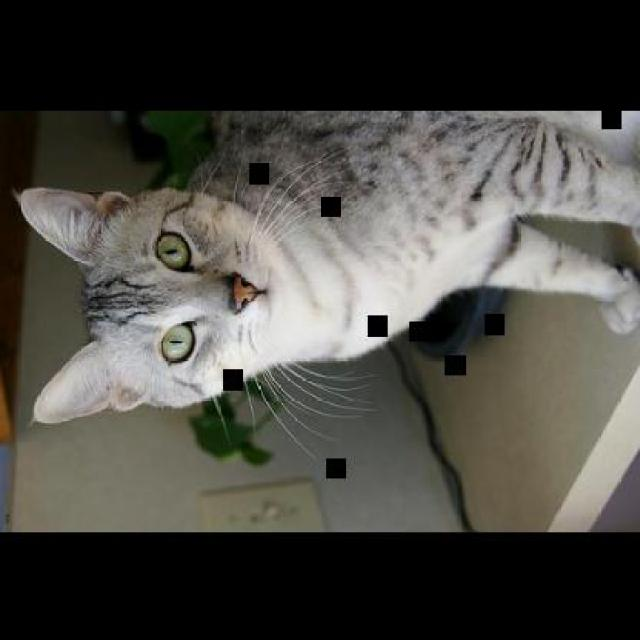unauthorized: (11, 108, 638, 460)
